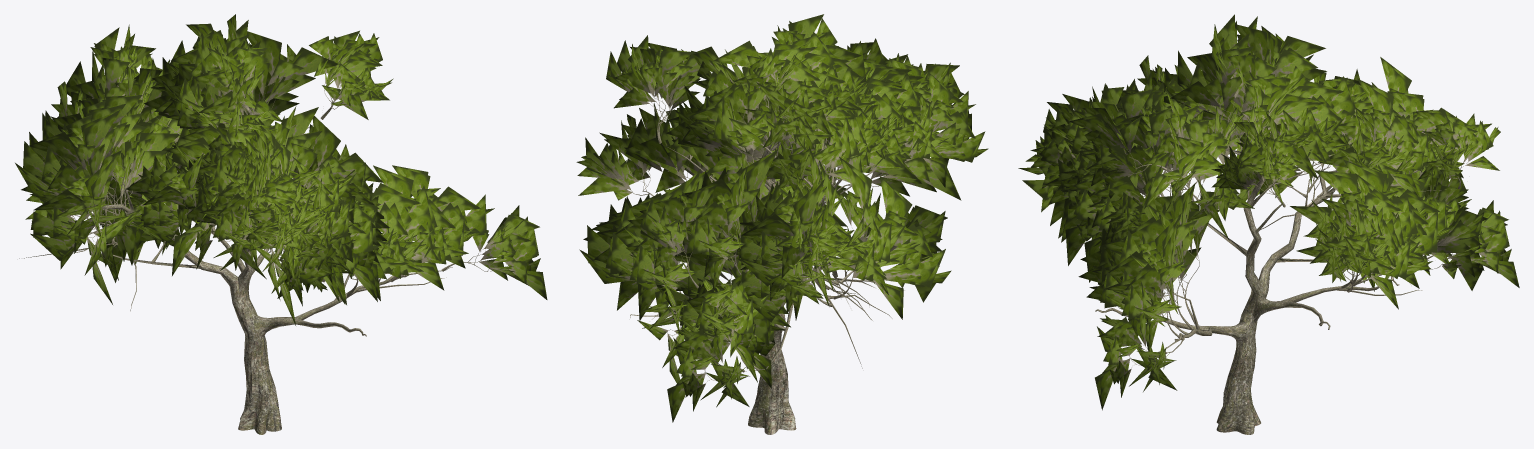
Rendered from oak1.obj.
3 renders of one model, left to right at view 1: azimuth 30°, elevation 25°; view 2: azimuth 150°, elevation 25°; view 3: azimuth 270°, elevation 25°, orthographic. The views are drawn at different scales.
Parts seen in each view (by area): view 1: oak leaf, mossybark03; view 2: oak leaf, mossybark03; view 3: oak leaf, mossybark03.
Boxes of the visible parts, <box> form: oak leaf: <box>15,14,547,325</box>; mossybark03: <box>19,74,508,434</box>; oak leaf: <box>576,14,988,422</box>; mossybark03: <box>620,77,932,434</box>; oak leaf: <box>1018,14,1519,410</box>; mossybark03: <box>1095,85,1481,434</box>.
Size of the model in its own units: 1030 by 917 by 1069.
2 materials, 2 textured.
